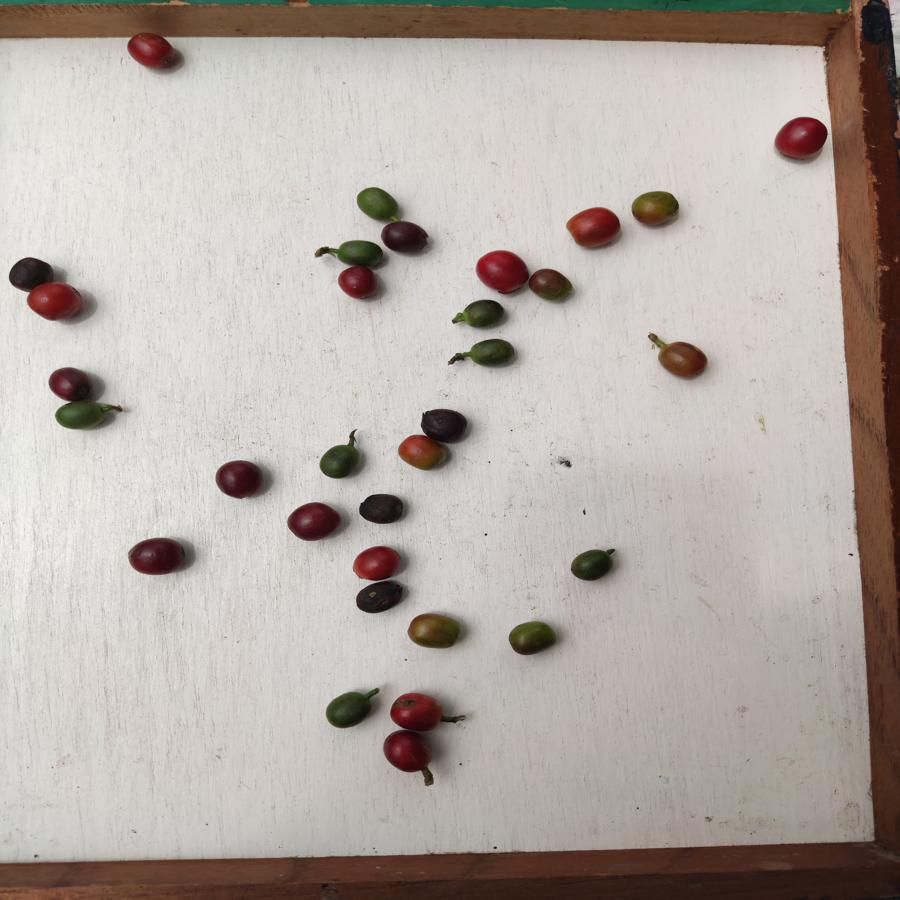Inmaduro: (324, 691, 375, 730), (55, 400, 105, 435), (356, 187, 401, 220), (569, 549, 614, 581), (318, 445, 360, 479), (337, 240, 385, 268), (469, 339, 516, 367), (463, 299, 505, 328)
Maduro: (771, 115, 829, 158), (25, 281, 84, 323), (476, 249, 529, 295), (564, 206, 622, 248), (391, 693, 443, 732), (126, 31, 177, 70), (351, 545, 402, 581)
Pinton: (654, 338, 710, 381), (405, 613, 461, 653), (629, 190, 683, 229), (397, 437, 451, 471), (508, 621, 557, 656), (528, 267, 575, 303)
Sobremaduro: (127, 538, 187, 577), (285, 502, 342, 543), (382, 731, 435, 773), (214, 458, 265, 501), (419, 407, 469, 444), (354, 580, 406, 615), (46, 364, 91, 401), (8, 257, 52, 292), (380, 221, 430, 251), (337, 267, 381, 301), (358, 493, 406, 524)
